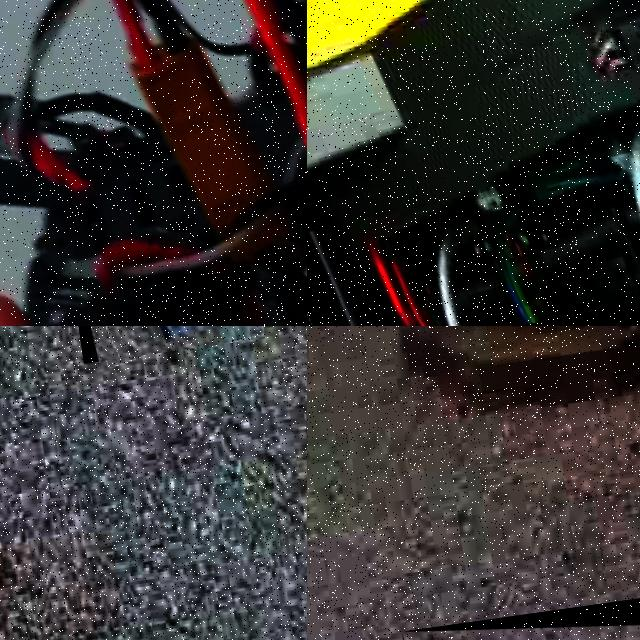0: (307, 0, 640, 326)
drone: (0, 0, 307, 326)
